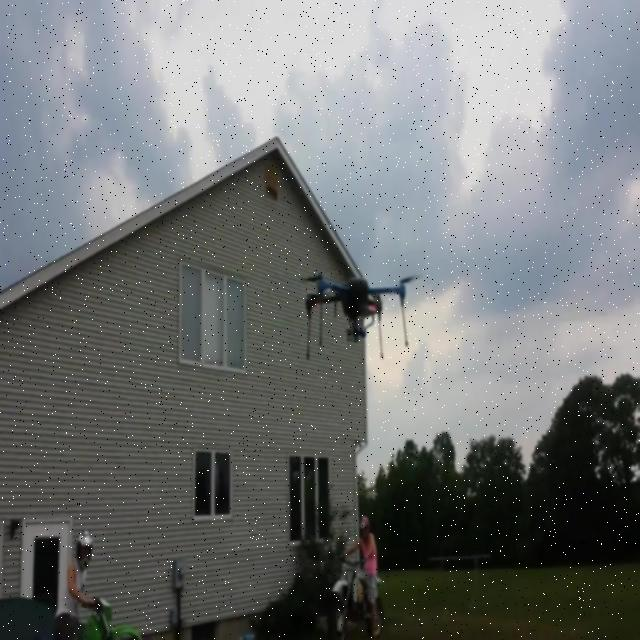UAV: (302, 273, 424, 360)
